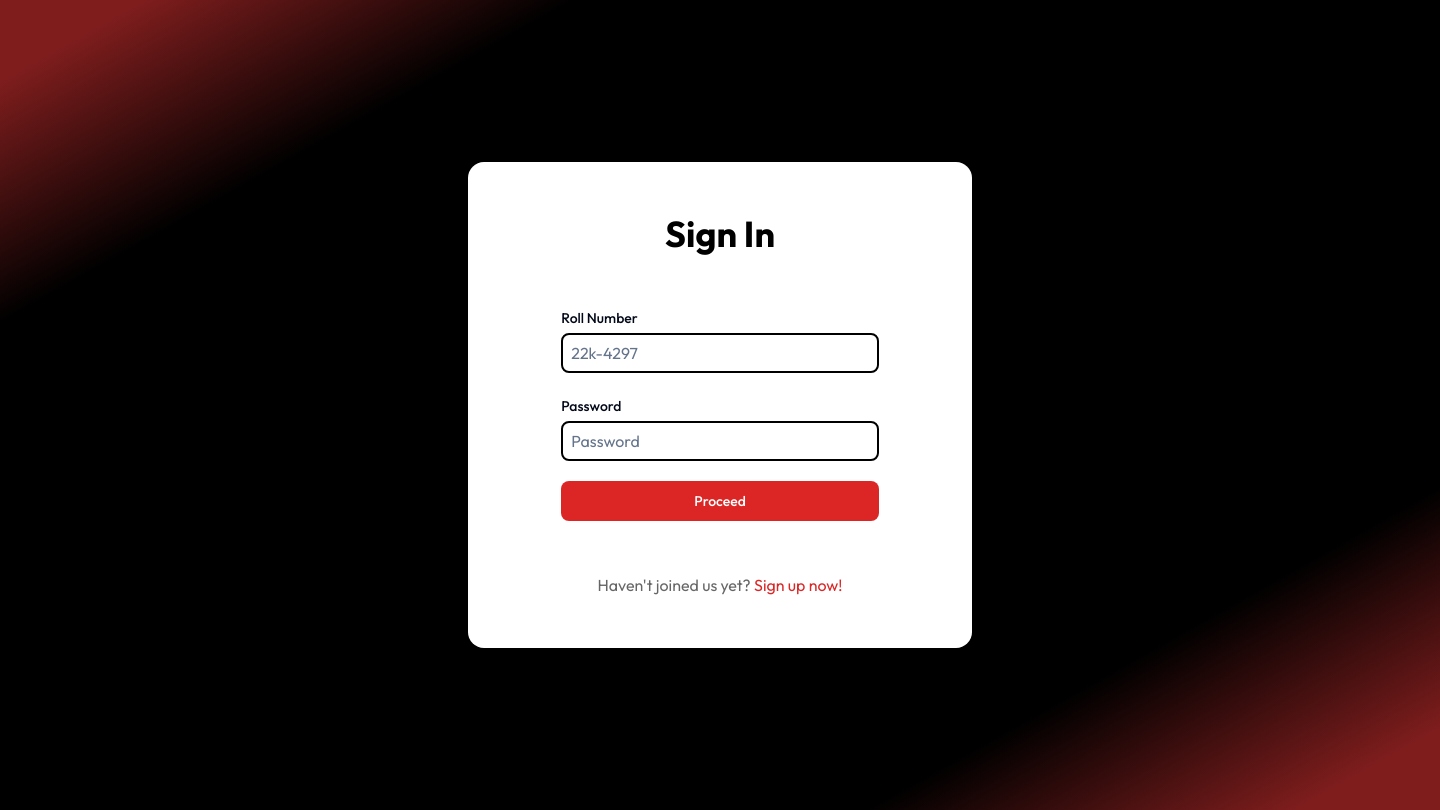
Test: Login Form - Validation Tests › should reject empty rollno field
Type "password123" into the password field labelled "Password" at (720, 441), box [561,421,879,461]
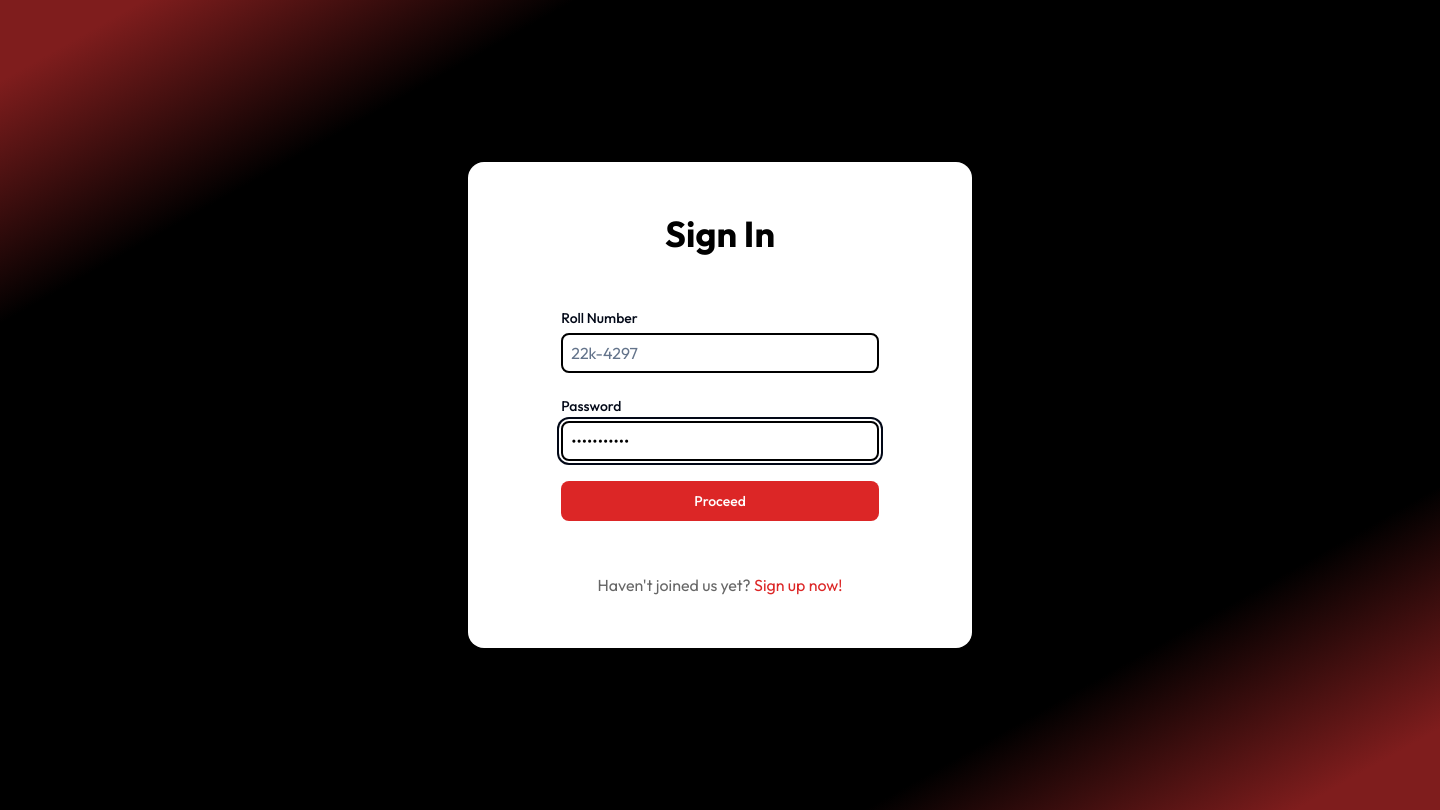
Click the button "Proceed" at (720, 501), box [561,481,879,521]
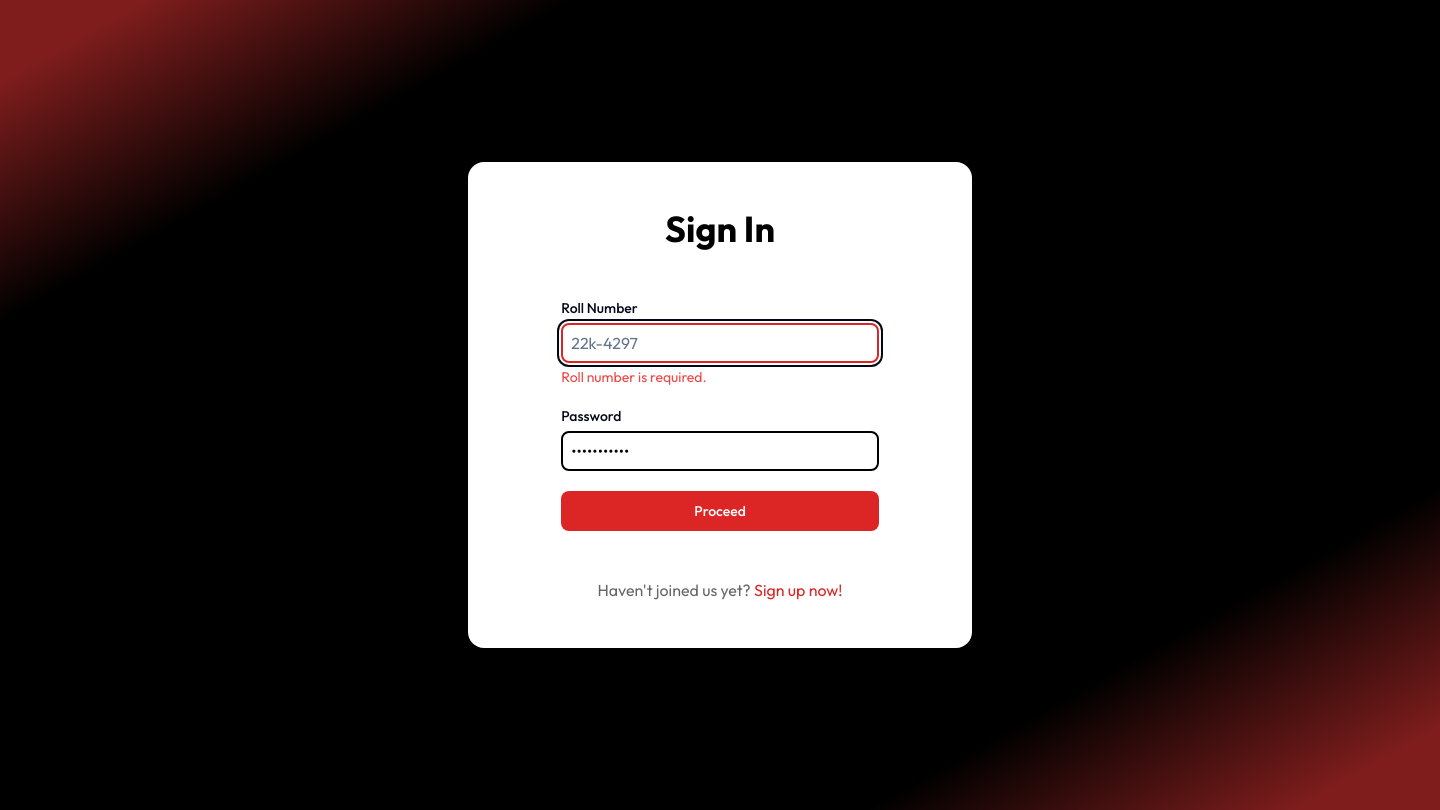
Expected: the text "Roll number is required." is shown, [561,368,706,386]
